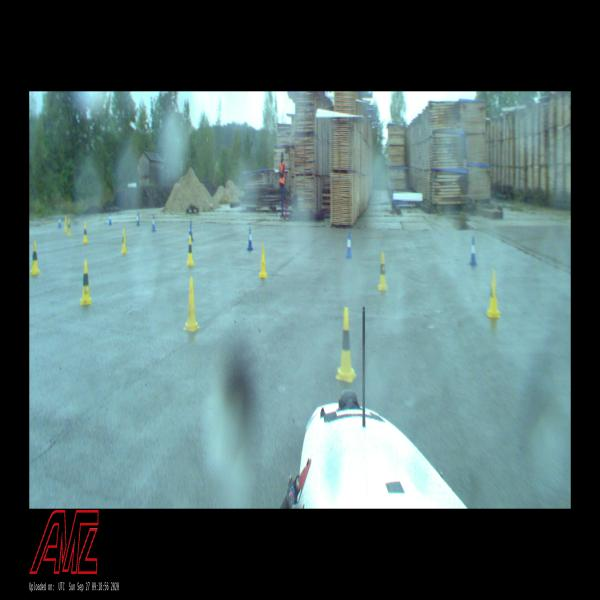blue_cone: (469, 238, 476, 266), (246, 226, 252, 250), (346, 232, 351, 257), (150, 214, 156, 231), (188, 222, 193, 241), (136, 211, 140, 226), (58, 215, 62, 228), (108, 211, 111, 225)
yellow_cone: (335, 307, 356, 382), (183, 277, 200, 332), (486, 269, 501, 318), (79, 258, 91, 307), (29, 242, 40, 276), (377, 254, 387, 290), (258, 244, 267, 278), (120, 228, 127, 255), (187, 239, 193, 266), (81, 222, 87, 244), (64, 217, 68, 232), (68, 219, 70, 234)
